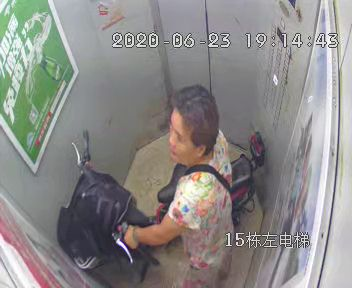Electric-bicycle: (56, 131, 264, 267)
